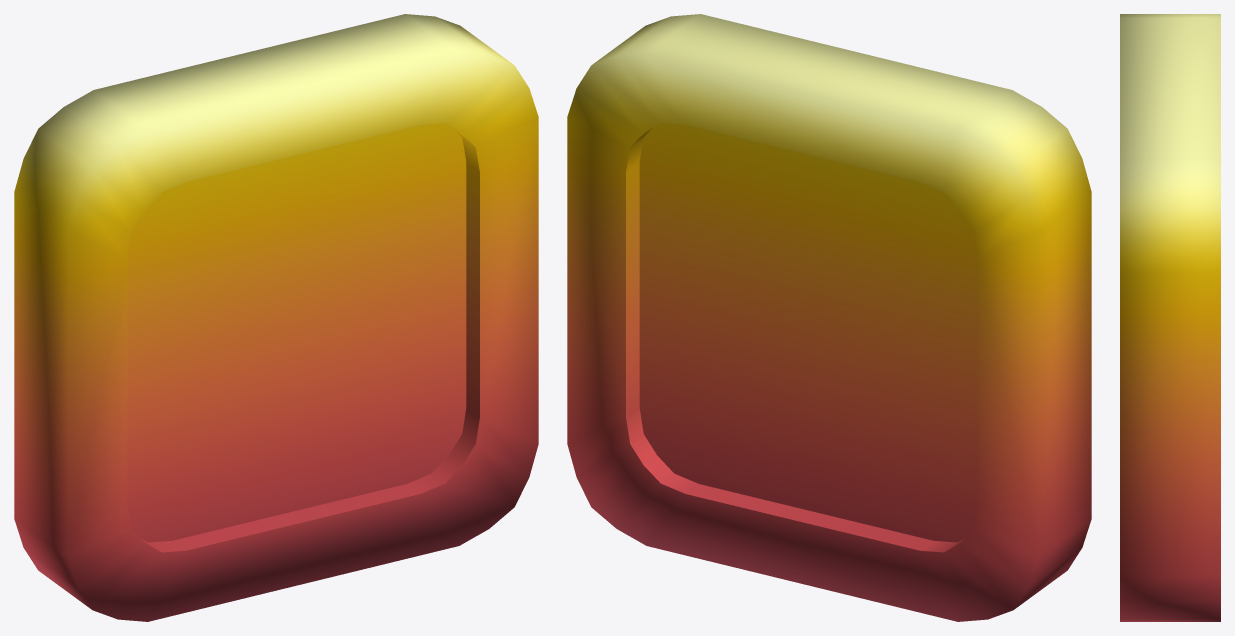
File: orange.glb
3 renders of one model, left to right at view 1: azimuth 30°, elevation 25°; view 2: azimuth 150°, elevation 25°; view 3: azimuth 270°, elevation 25°, orthographic. The views are drawn at different scales.
Visible parts, largest first — view 1: Gem2; view 2: Gem2; view 3: Gem2.
Part boxes in pixels (box(x1,y1,x2,y2)): Gem2: box(14, 14, 538, 621); Gem2: box(567, 14, 1091, 621); Gem2: box(1120, 14, 1220, 621).
Size of the model in its own units: 1 by 1 by 0.2.
1 material, 1 textured.
